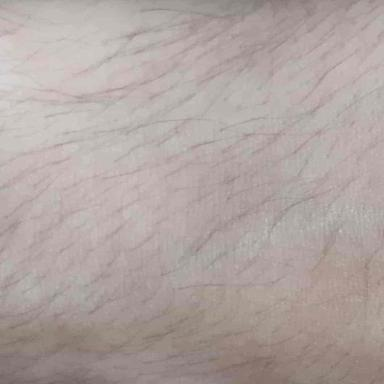normal skin: (1, 0, 382, 384)
